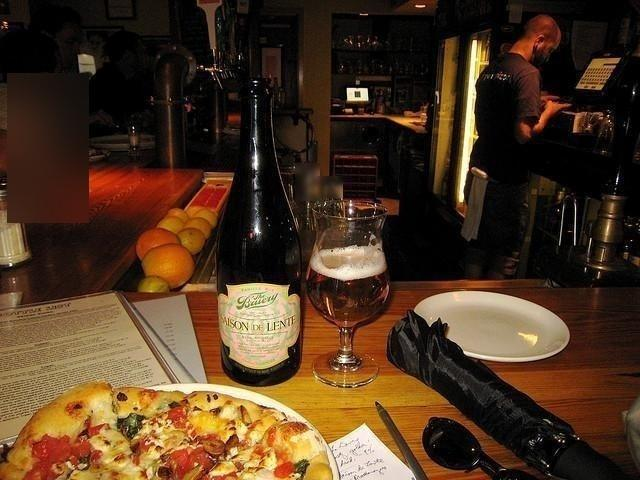bottle-glass: (215, 78, 304, 384)
glass-wine: (307, 208, 393, 386)
